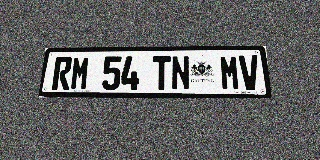4: (121, 56, 140, 90)
5: (102, 56, 122, 90)
M: (219, 55, 241, 90), (70, 56, 90, 90)
N: (171, 56, 190, 90)
R: (51, 57, 73, 90)
T: (152, 56, 171, 90)
V: (238, 55, 261, 90)
